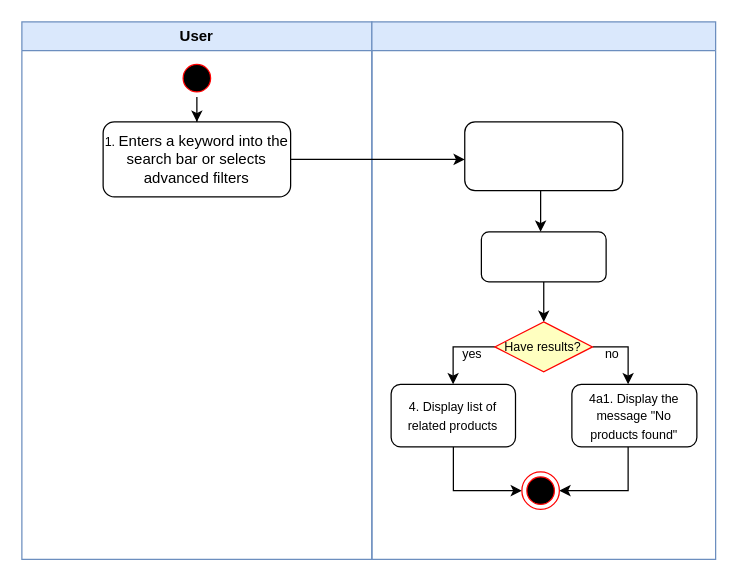
Image size: 738x581. Some labels were removed from this diagram. The box of each missing label's shape, as (x1, y1, x2, y2) in pixels:
2. Retrieves matching products from the database: (464, 121, 623, 191)
3. Checks the results: (480, 231, 606, 282)
System: (371, 21, 716, 559)
